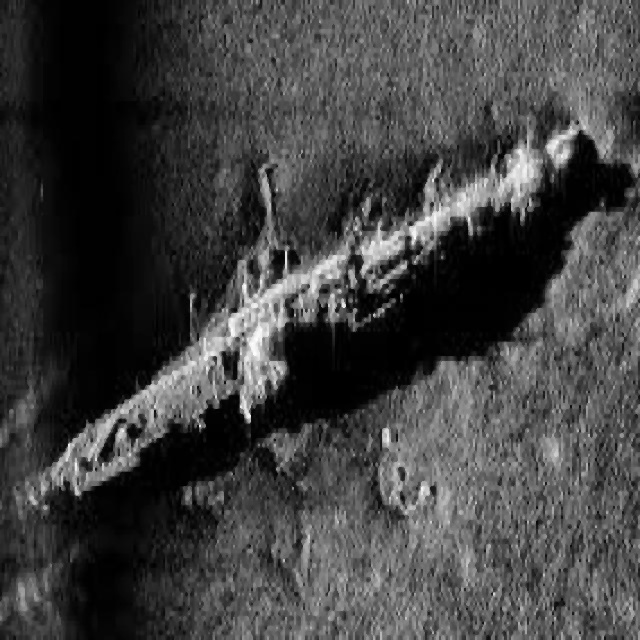Ship: (34, 101, 586, 535)
